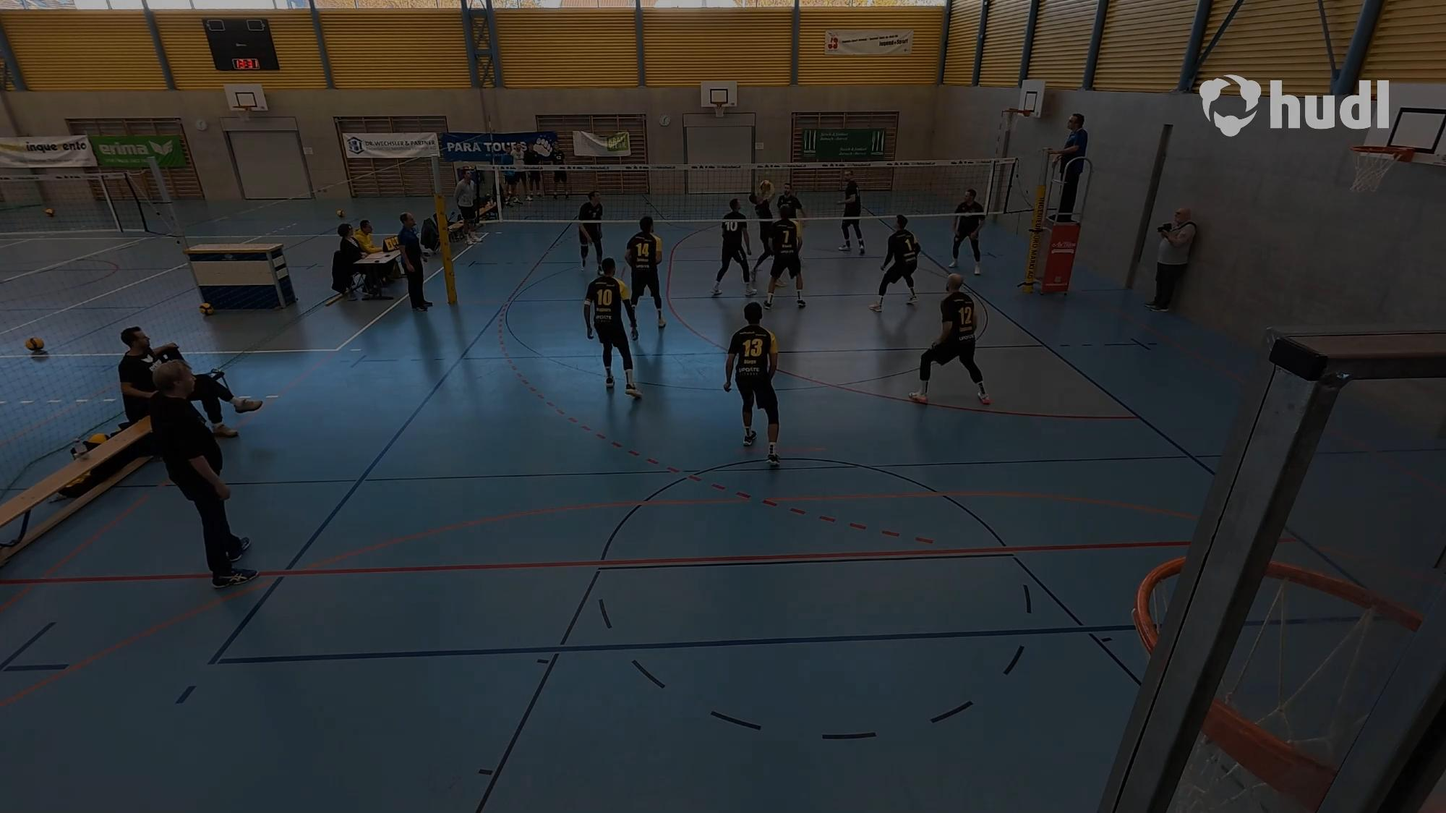Player: (908, 275, 991, 407), (727, 300, 782, 469), (584, 260, 639, 400), (870, 214, 921, 314), (625, 218, 666, 329), (767, 204, 808, 308), (711, 198, 752, 298), (949, 184, 985, 275), (835, 167, 865, 258), (576, 193, 604, 275), (771, 180, 807, 220)
Set: (751, 174, 782, 288)
ball: (755, 177, 774, 194)
